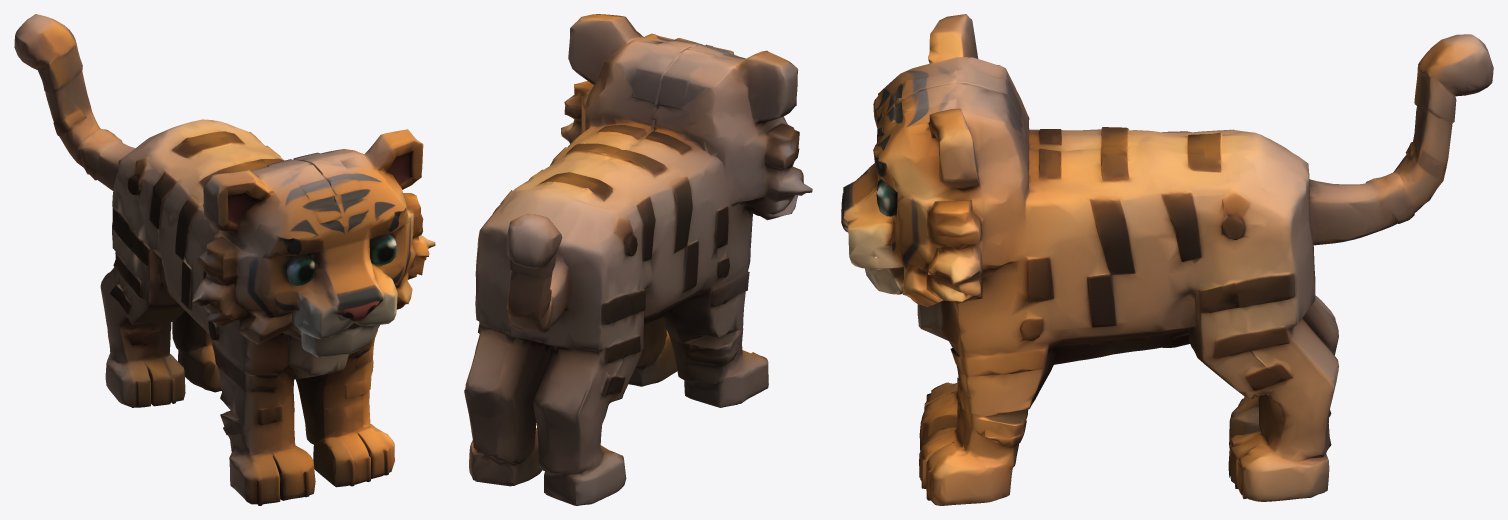
The model's file is tiger.glb.
The picture shows the model from 3 angles, left to right: view 1: azimuth 30°, elevation 25°; view 2: azimuth 150°, elevation 25°; view 3: azimuth 270°, elevation 25°; orthographic projection. The views are drawn at different scales.
Visible parts, largest first — view 1: tripo_node_b83a43f8-ee16-4af4-bc49-495b0a3f1246; view 2: tripo_node_b83a43f8-ee16-4af4-bc49-495b0a3f1246; view 3: tripo_node_b83a43f8-ee16-4af4-bc49-495b0a3f1246.
Boxes of the visible parts, <box> form: tripo_node_b83a43f8-ee16-4af4-bc49-495b0a3f1246: <box>14,14,435,505</box>; tripo_node_b83a43f8-ee16-4af4-bc49-495b0a3f1246: <box>464,14,812,505</box>; tripo_node_b83a43f8-ee16-4af4-bc49-495b0a3f1246: <box>841,14,1493,505</box>.
Bounding box in the file's own units: 0.5173 × 0.6696 × 1.
1 material, 1 textured.
